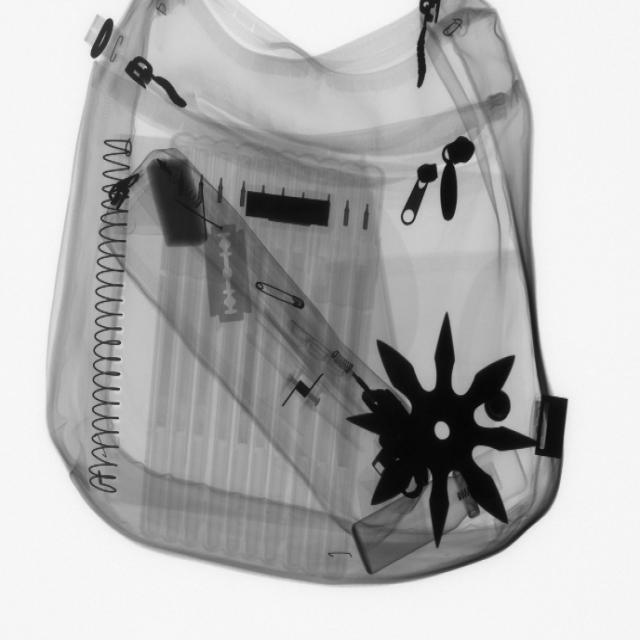BLADE: (200, 208, 260, 330)
SHURIKEN: (353, 314, 533, 551)
